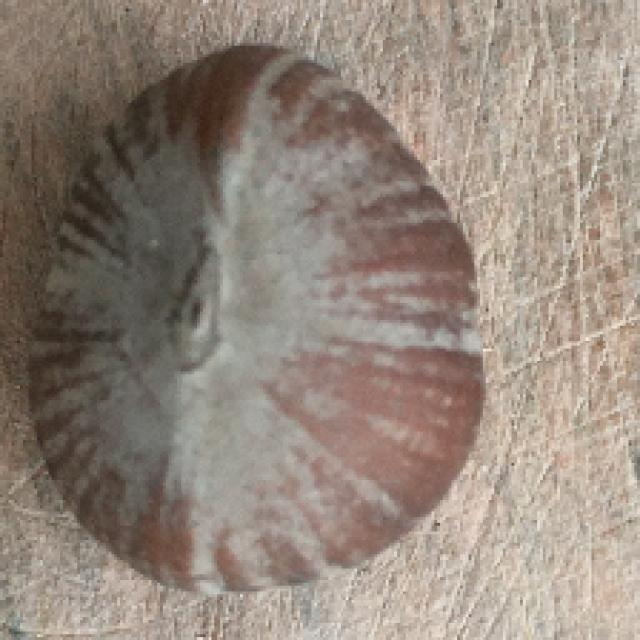damagedHazelnut: (24, 36, 488, 606)
